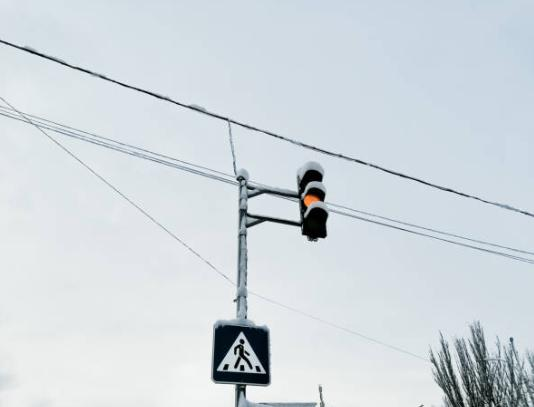yellow_light: (297, 169, 328, 238)
